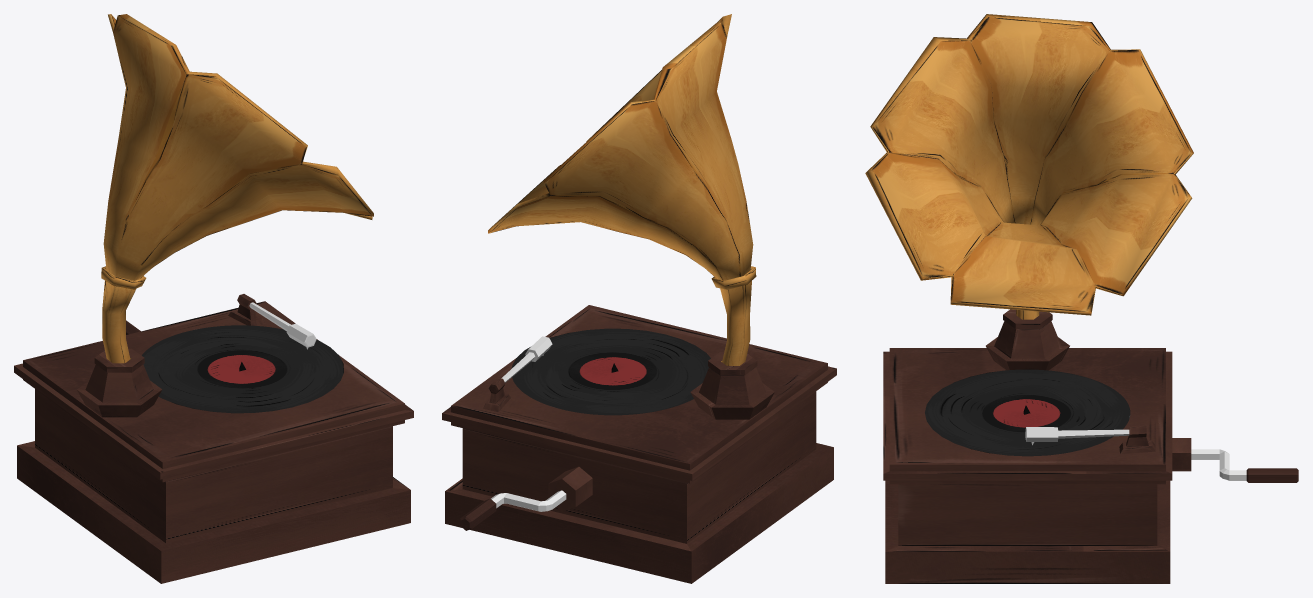
Rendered from pikap.fbx.
The picture shows the model from 3 angles, left to right: view 1: azimuth 30°, elevation 25°; view 2: azimuth 150°, elevation 25°; view 3: azimuth 270°, elevation 25°; orthographic projection.
Visible parts, largest first — view 1: Cylinder.003, Cylinder.002; view 2: Cylinder.003, Cylinder.002; view 3: Cylinder.003, Cylinder.002.
Part boxes in pixels (<box>): Cylinder.003: <box>14,14,413,583</box>; Cylinder.002: <box>142,325,343,413</box>; Cylinder.003: <box>442,14,836,583</box>; Cylinder.002: <box>511,328,710,415</box>; Cylinder.003: <box>865,14,1298,583</box>; Cylinder.002: <box>925,369,1130,456</box>.
Size of the model in its own units: 174 by 317 by 260.
